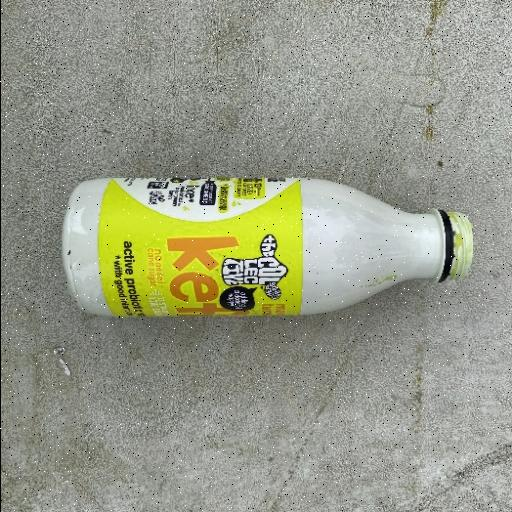Plastic: (60, 172, 474, 320)
